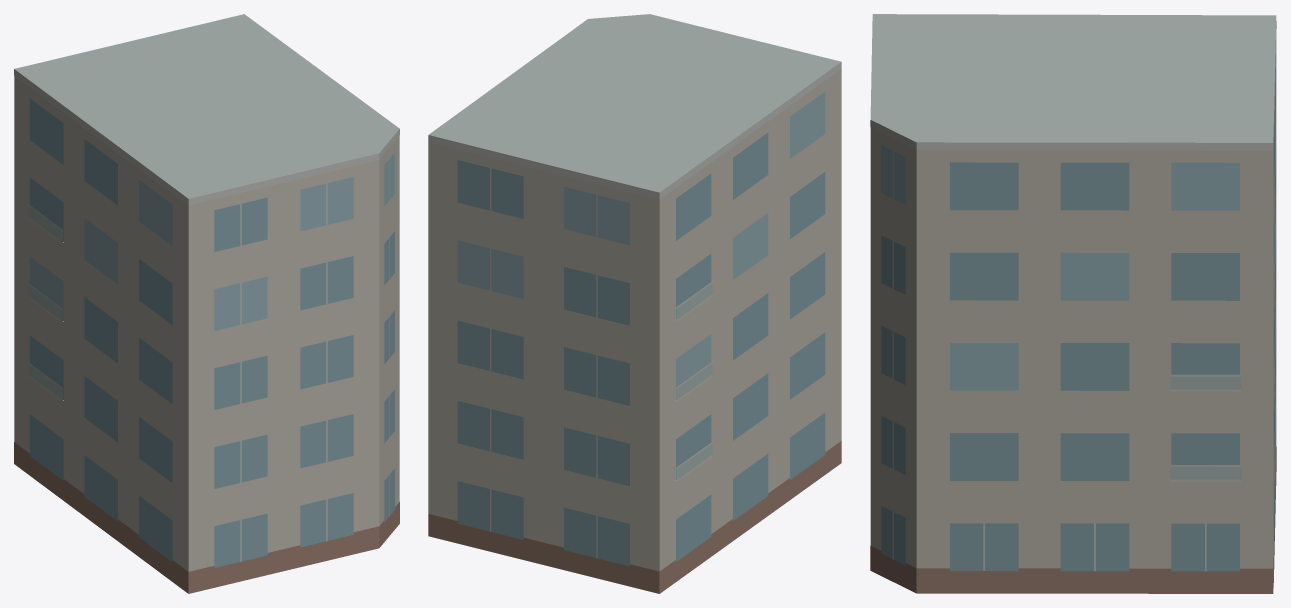
File: survey-upis-32635687.glb
The picture shows the model from 3 angles, left to right: view 1: azimuth 30°, elevation 25°; view 2: azimuth 150°, elevation 25°; view 3: azimuth 270°, elevation 25°; orthographic projection. The views are drawn at different scales.
Visible parts, largest first — view 1: survey-upis-32635687.tmp; view 2: survey-upis-32635687.tmp; view 3: survey-upis-32635687.tmp.
Boxes of the visible parts, <box> form: survey-upis-32635687.tmp: <box>14,14,399,593</box>; survey-upis-32635687.tmp: <box>428,14,841,593</box>; survey-upis-32635687.tmp: <box>870,14,1276,593</box>.
Bounding box in the file's own units: 8.8 × 14.3 × 11.68.
